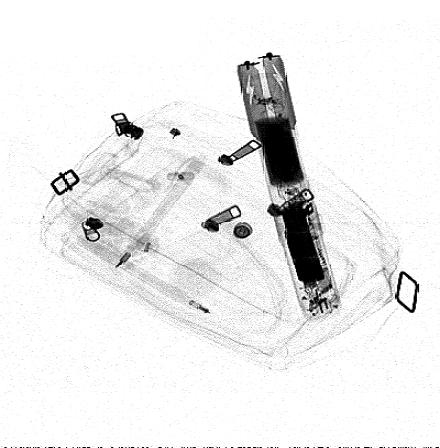Baton: (236, 52, 341, 322)
